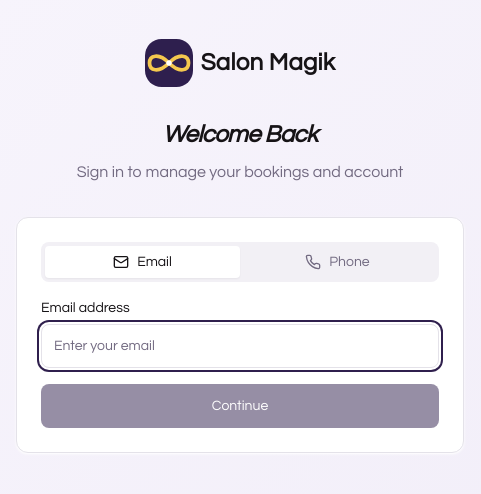
Test: ClientLoginPage › shows the missing account message when no customer record is found
Type "missing@example.com" into the field with placeholder "Enter your email".
click(240, 346); type("missing@example.com")  # box x1=41 y1=324 x2=439 y2=368
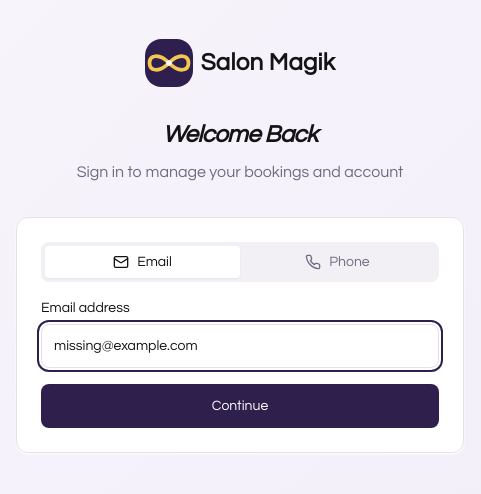
Click the button "Continue".
click(240, 406)  # box x1=41 y1=384 x2=439 y2=428
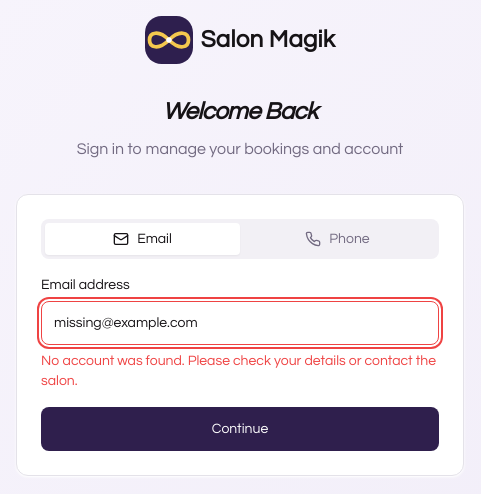
Check: the text "No account was found" is shown, box x1=41 y1=354 x2=436 y2=388
